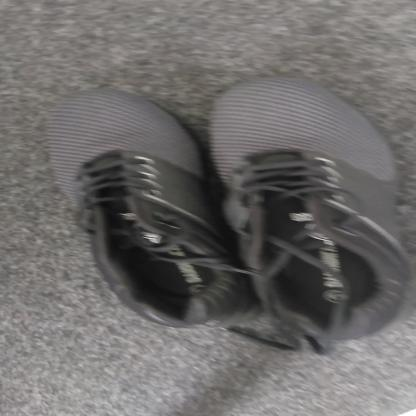safety-shoe: (46, 76, 414, 336)
